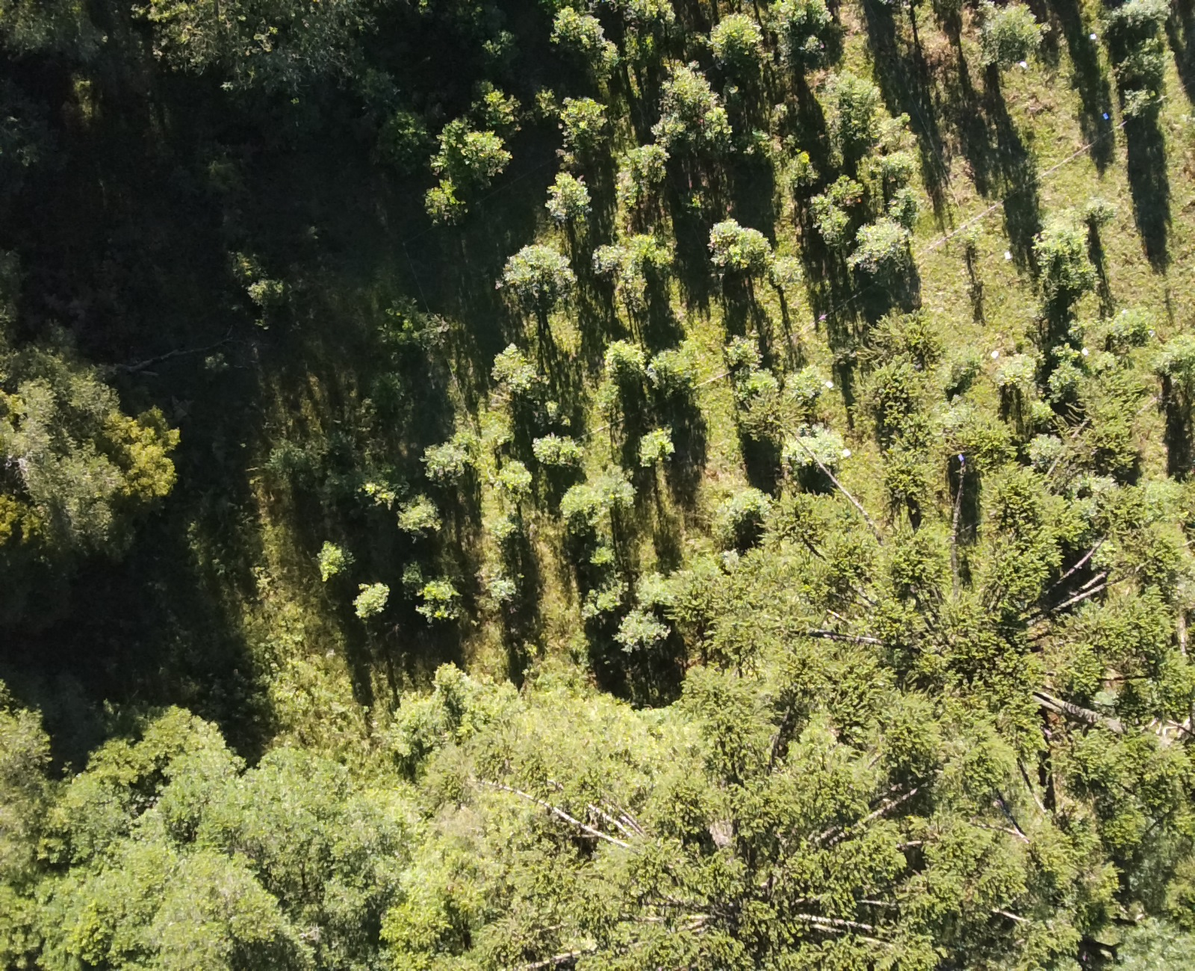erva: (500, 250, 578, 327), (663, 72, 730, 140), (1031, 219, 1093, 279), (552, 101, 615, 158), (545, 7, 604, 62), (983, 10, 1045, 61), (540, 177, 595, 231), (708, 20, 767, 70), (1106, 0, 1176, 42), (858, 220, 916, 270), (621, 146, 677, 196), (597, 340, 649, 392), (553, 480, 597, 539), (789, 429, 848, 472), (804, 197, 852, 249), (715, 485, 766, 533), (613, 613, 662, 662), (460, 131, 509, 179), (395, 490, 442, 539), (654, 347, 697, 397), (536, 422, 579, 471), (723, 330, 767, 376), (497, 356, 542, 400), (418, 578, 460, 624), (710, 215, 751, 262), (790, 362, 836, 400), (427, 182, 469, 223), (347, 580, 390, 619), (318, 529, 350, 580), (479, 565, 515, 609), (495, 460, 531, 503), (640, 429, 677, 468)
